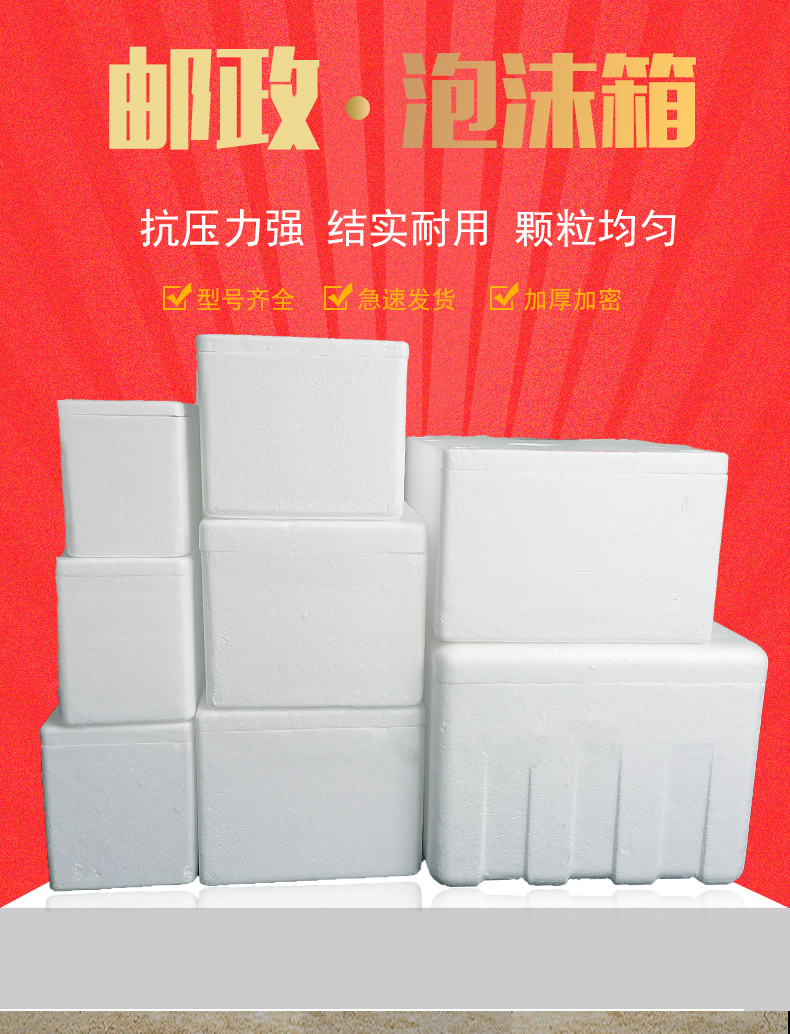泡沫箱: (42, 335, 767, 892)
